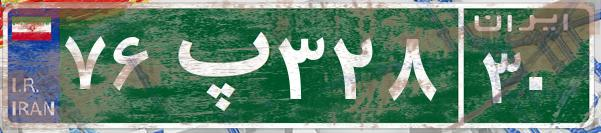0: (525, 38, 570, 115)
2: (330, 28, 385, 110)
3: (273, 28, 330, 110), (475, 38, 525, 113)
6: (110, 28, 158, 105)
7: (57, 26, 110, 107)
8: (385, 28, 445, 110)
پ: (158, 15, 273, 115)
